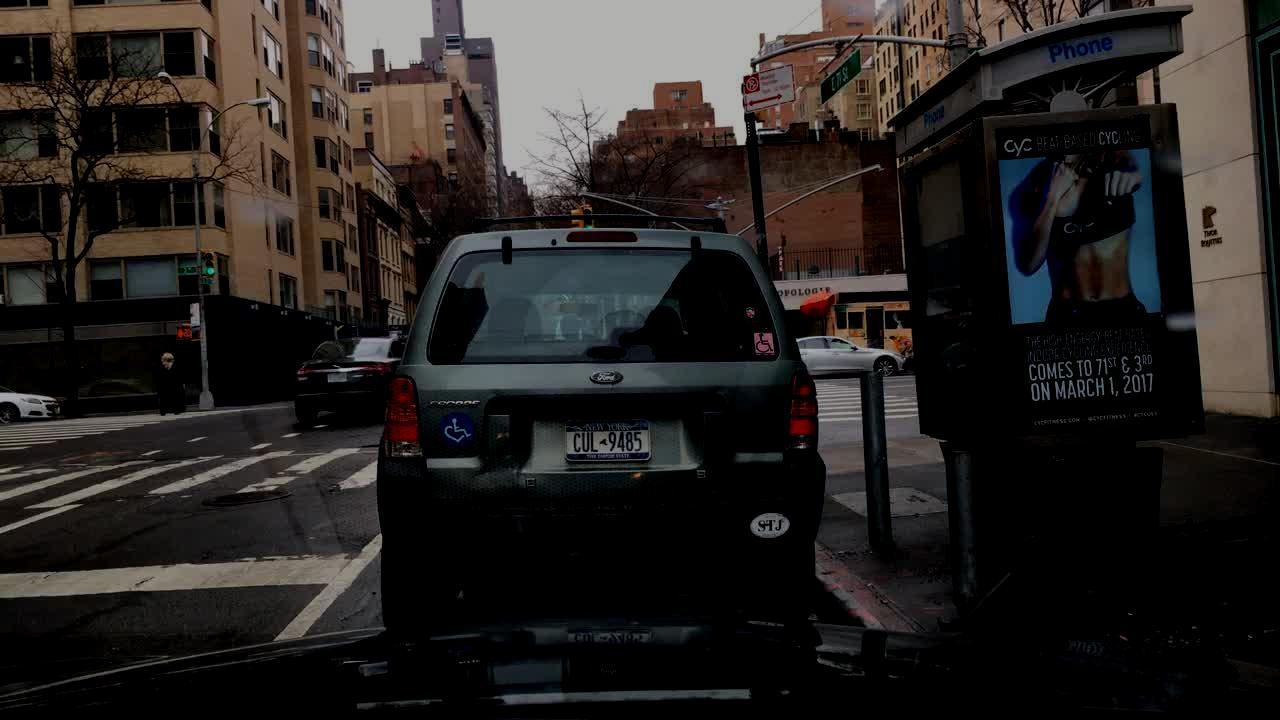ford: (583, 359, 645, 395)
